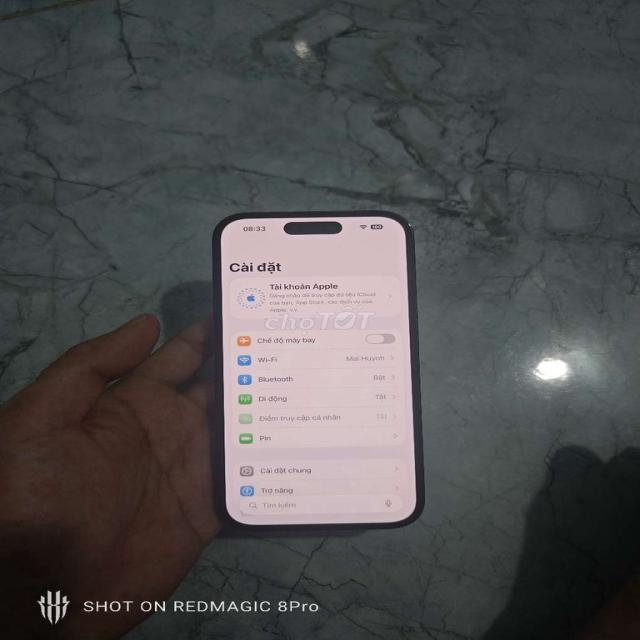gen_14: (204, 196, 433, 542)
